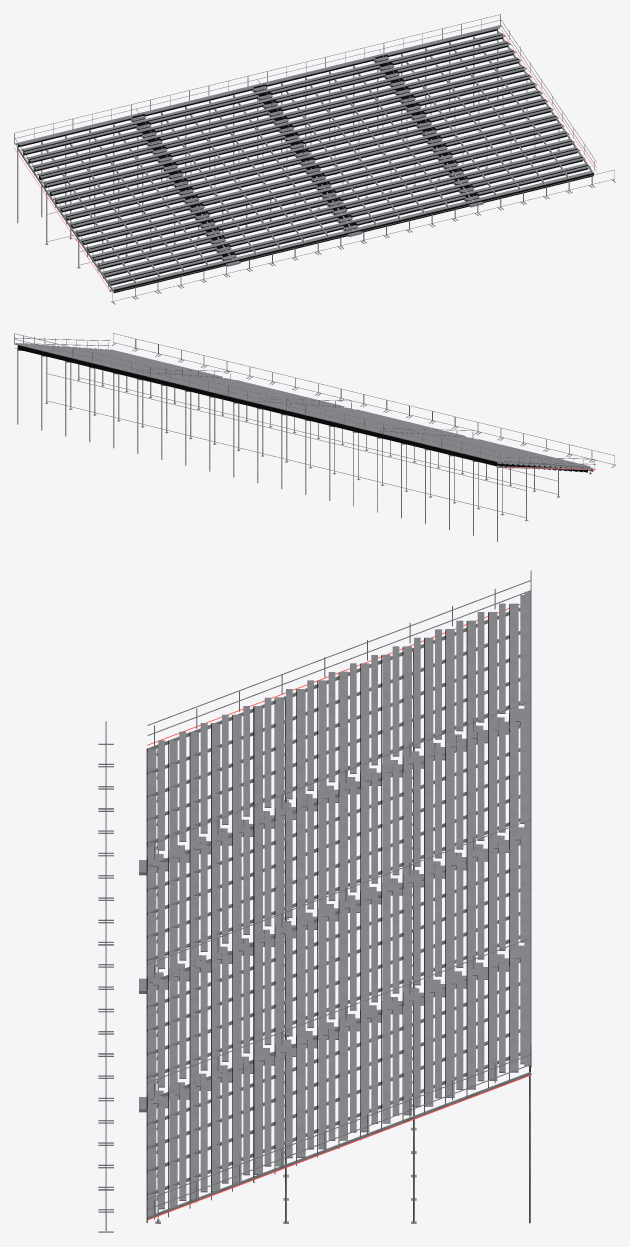
The model's file is grandstand_lod1.glb.
The picture shows the model from 3 angles, top to bottom: view 1: azimuth 30°, elevation 25°; view 2: azimuth 150°, elevation 25°; view 3: azimuth 270°, elevation 25°; orthographic projection. The views are drawn at different scales.
Visible parts, largest first — view 1: Grandstand_Mesh; view 2: Grandstand_Mesh; view 3: Grandstand_Mesh.
Boxes of the visible parts, x1,y1,x2,y2 form: Grandstand_Mesh: (14, 14, 615, 304); Grandstand_Mesh: (14, 333, 615, 541); Grandstand_Mesh: (98, 570, 531, 1232).
Bounding box in the file's own units: 51.68 × 8.93 × 19.32.
4 materials, 3 textured.
